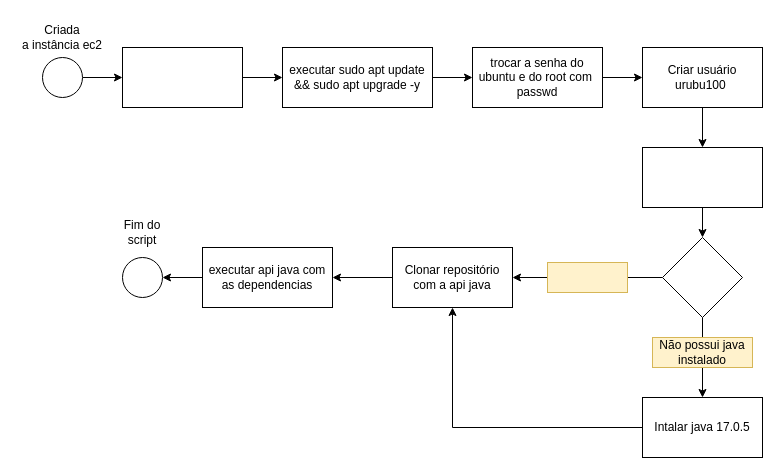
Image size: 780x475. Some labels were removed from this diagram. Each missing label, with the centre of its shape:
"Iniciando conexão via shh" belongs at pixel 182 77.
"logar com o usuario urubu100" belongs at pixel 702 177.
"Possui Java" belongs at pixel 587 277.
